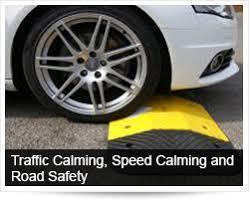speedbreaker: (108, 100, 232, 150)
